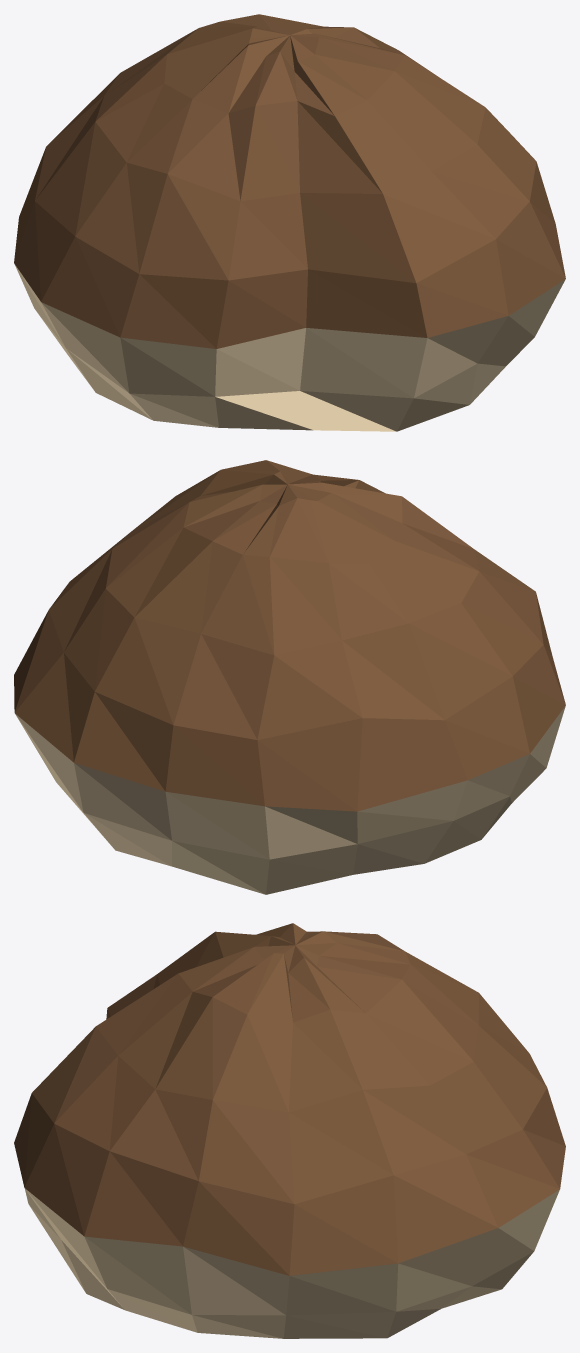
Rendered from chestnut.glb.
3 views of the same model, one above another, from view 1: azimuth 30°, elevation 25°; view 2: azimuth 150°, elevation 25°; view 3: azimuth 270°, elevation 25° (orthographic).
Bounding box in the file's own units: 1.01 × 0.6241 × 0.9833.
